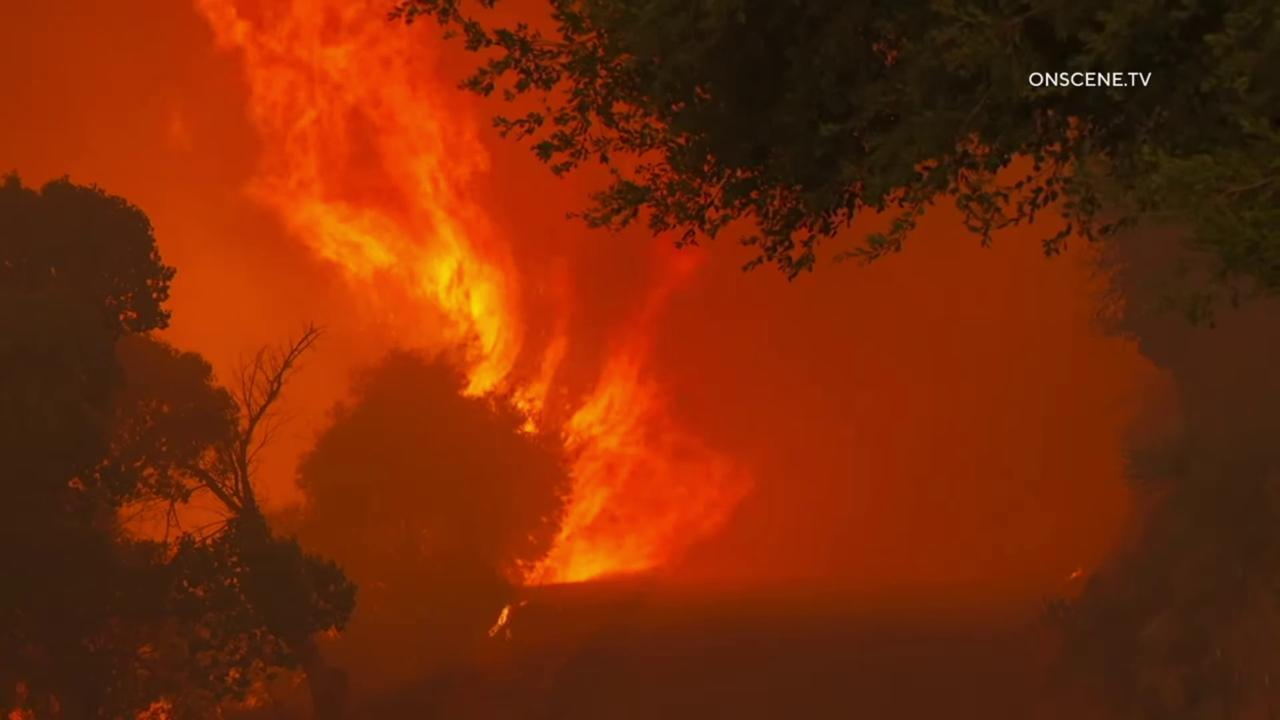fire: (184, 0, 763, 593), (486, 602, 513, 641)
smoke: (0, 0, 1280, 720)
